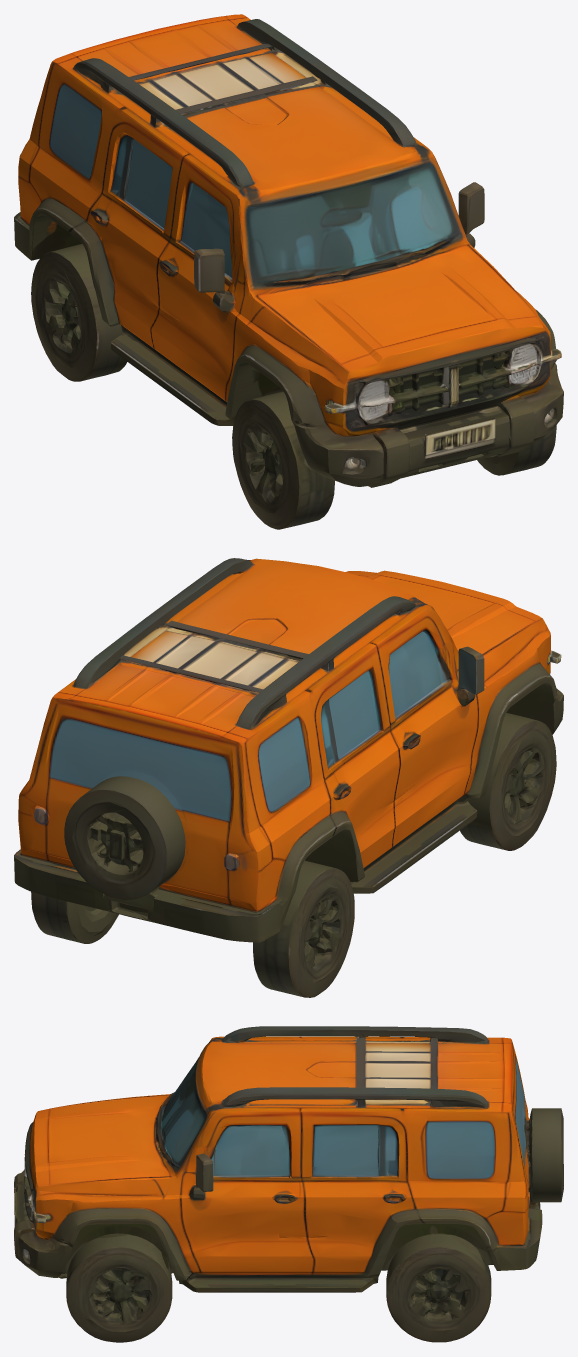
The model's file is orange_suv_vehicle.glb.
3 renders of one model, top to bottom at view 1: azimuth 30°, elevation 25°; view 2: azimuth 150°, elevation 25°; view 3: azimuth 270°, elevation 25°, orthographic. The views are drawn at different scales.
Visible parts, largest first — view 1: Object_2; view 2: Object_2; view 3: Object_2.
Boxes of the visible parts, left/top/right/bottom form: Object_2: left=14, top=14, right=563, bottom=529; Object_2: left=14, top=558, right=563, bottom=997; Object_2: left=14, top=1026, right=563, bottom=1342.
Size of the model in its own units: 0.9044 by 0.8949 by 1.9.
1 material, 1 textured.
